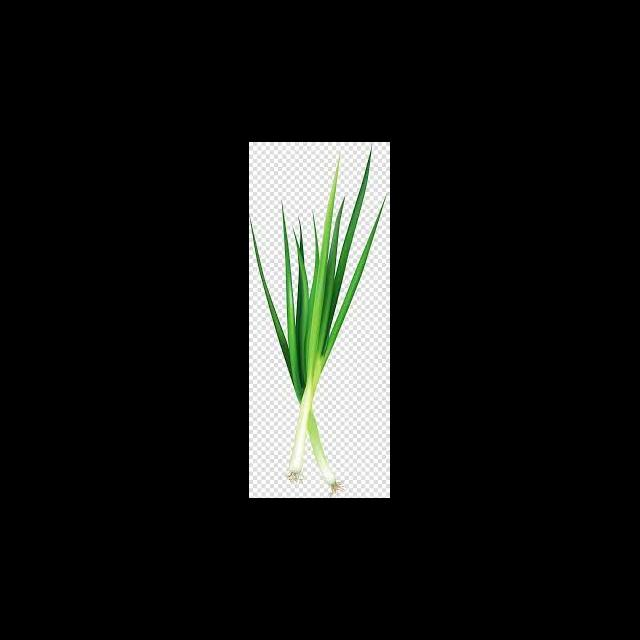green_onion: (250, 146, 390, 493)
